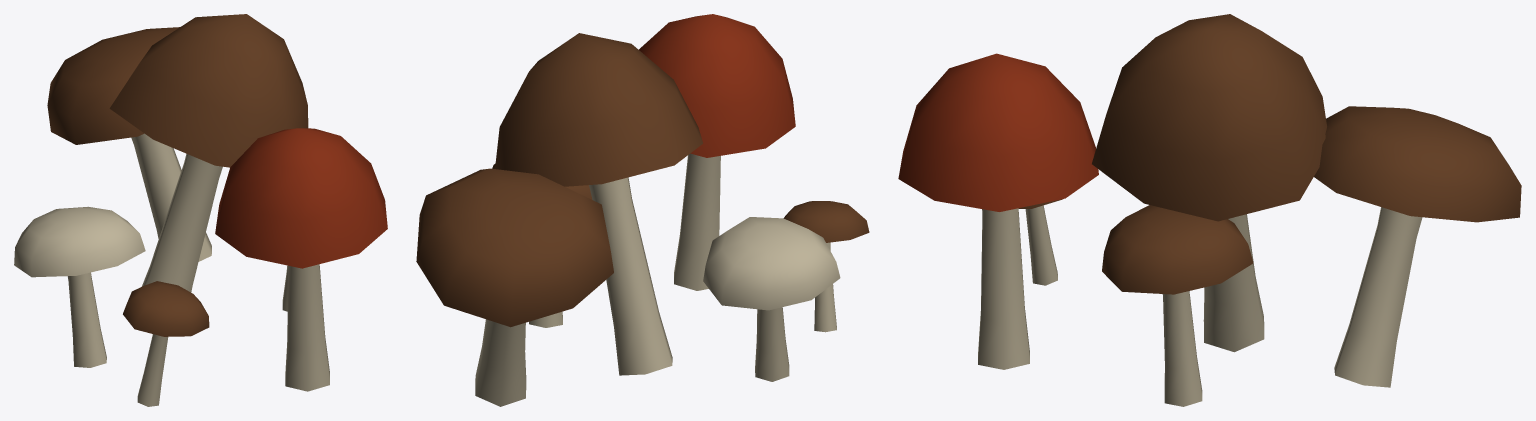
File: toadstools.glb
3 renders of one model, left to right at view 1: azimuth 30°, elevation 25°; view 2: azimuth 150°, elevation 25°; view 3: azimuth 270°, elevation 25°, orthographic. The views are drawn at different scales.
Visible parts, largest first — view 1: Toadstools_mesh; view 2: Toadstools_mesh; view 3: Toadstools_mesh.
Part boxes in pixels (x1,y1,x2,y2): Toadstools_mesh: (14, 14, 387, 406); Toadstools_mesh: (416, 14, 869, 406); Toadstools_mesh: (898, 14, 1521, 406).
Size of the model in its own units: 0.2387 by 0.2067 by 0.3326.
